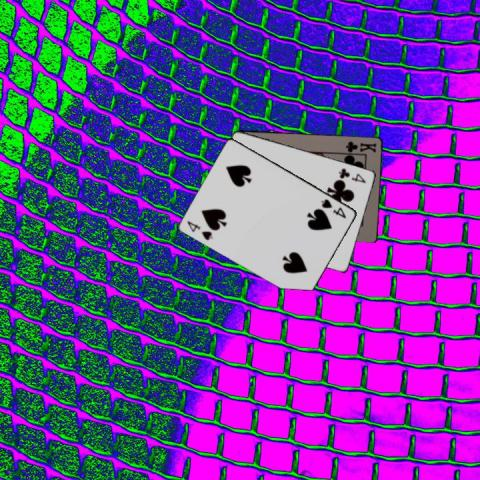4c: (336, 165, 368, 184)
4s: (318, 196, 348, 220), (184, 218, 214, 242)
Kc: (343, 138, 378, 153)
